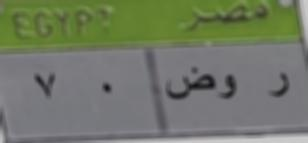0: (98, 72, 115, 100)
7: (31, 69, 64, 105)
daad: (159, 64, 214, 105)
raa: (266, 64, 292, 104)
waw: (217, 69, 242, 102)
